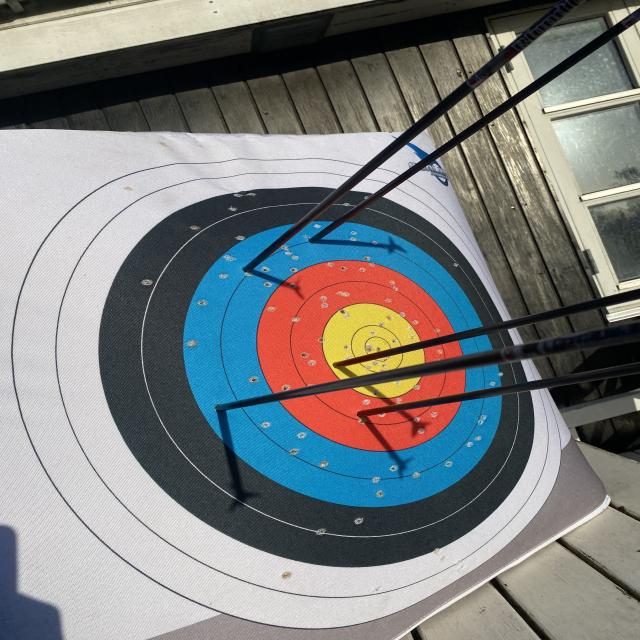Arrow_Blue: (232, 248, 284, 294), (300, 225, 336, 258), (210, 397, 248, 424)
Arrow_Red: (358, 402, 392, 428)
Arrow_Yellow: (322, 352, 359, 385)
